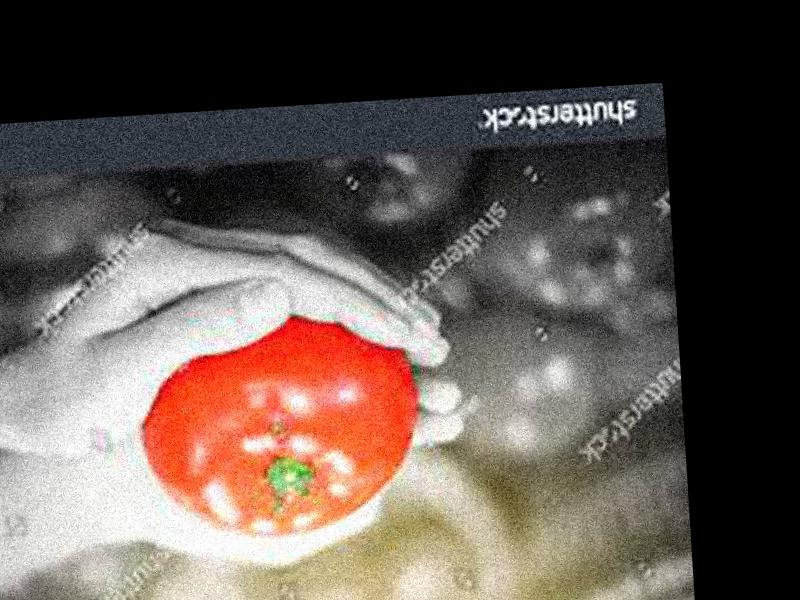Tomato: (135, 310, 423, 543)
